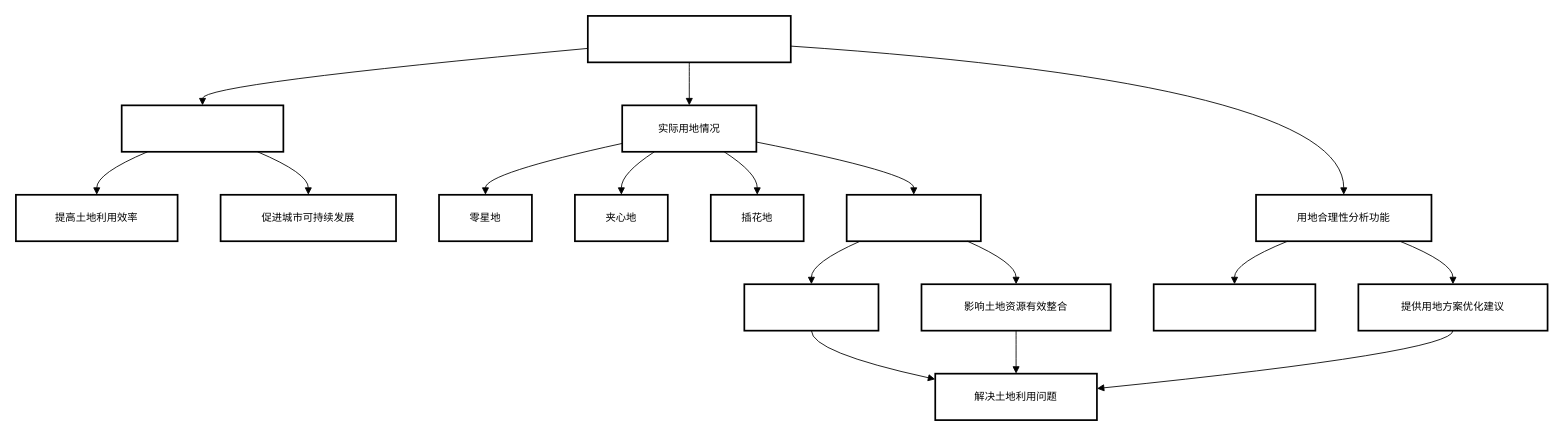
Some shapes in this 1563 by 435 pixel diagram are drawn without their labels. The shapes that lost their labels are listed below. From the top down, each one's centre as x and y in pixels, then its label:
At point (689, 39): "用地合理性分析".
At point (202, 128): "合理规划用地范围".
At point (913, 218): "低效用地情况".
At point (811, 307): "影响土地利用".
At point (1234, 307): "精准识别低效用地".
